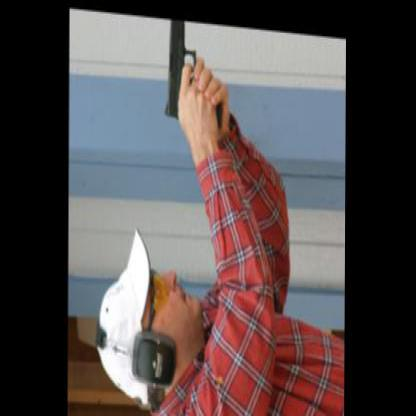pistol: (164, 14, 223, 124)
